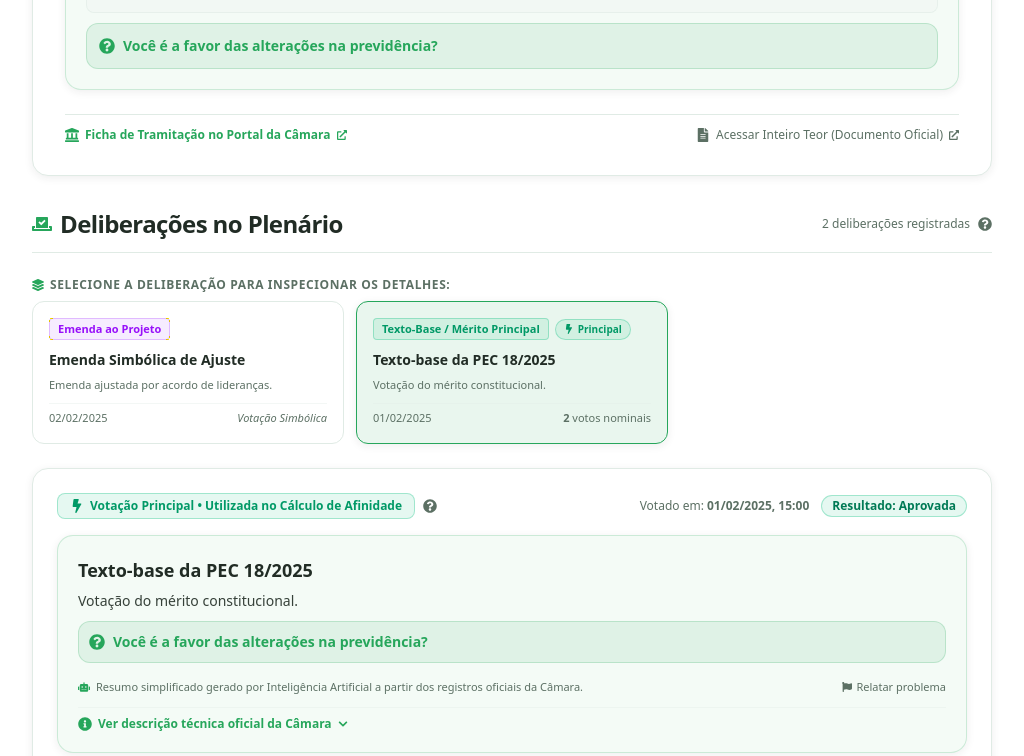
it: ProjectDetailsClient - Opinião no Card da Sessão Votada › desativa a opinião para sessões simbólicas sem votos nominais de deputados
The image size is (1024, 756).
(page scrolled)
Click the button "Emenda Simbólica de Ajuste": point(110, 329) [32,301,344,444]
(page scrolled)
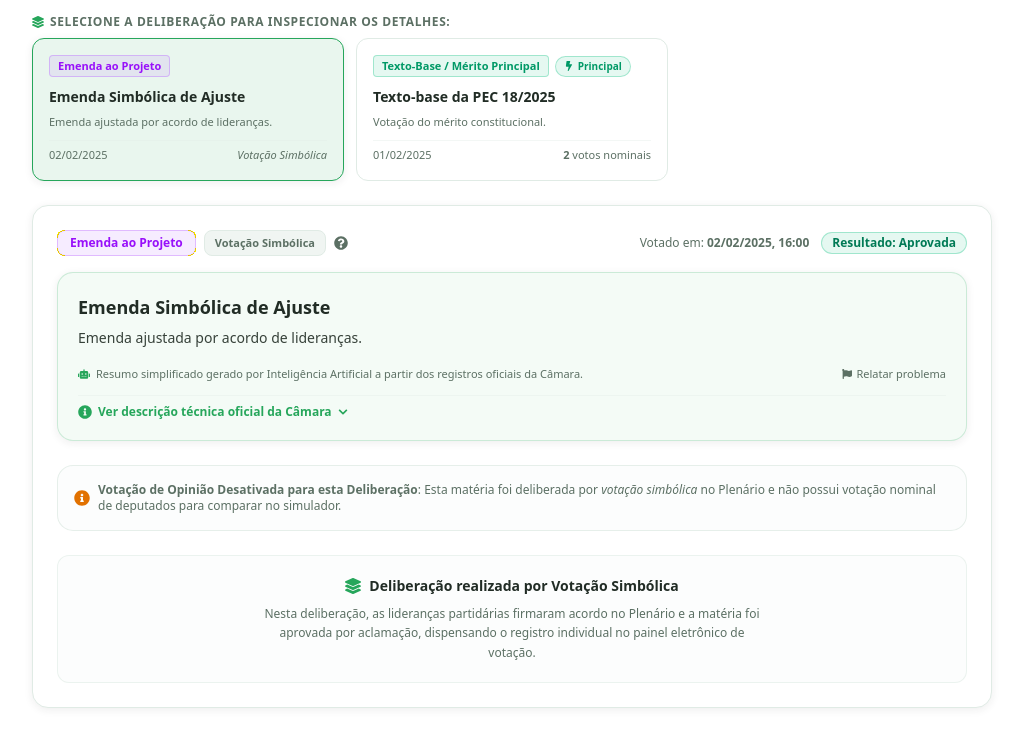
Result: the text "Votação de Opinião Desativada para esta Deliberação" is shown at [98,481,418,498]
